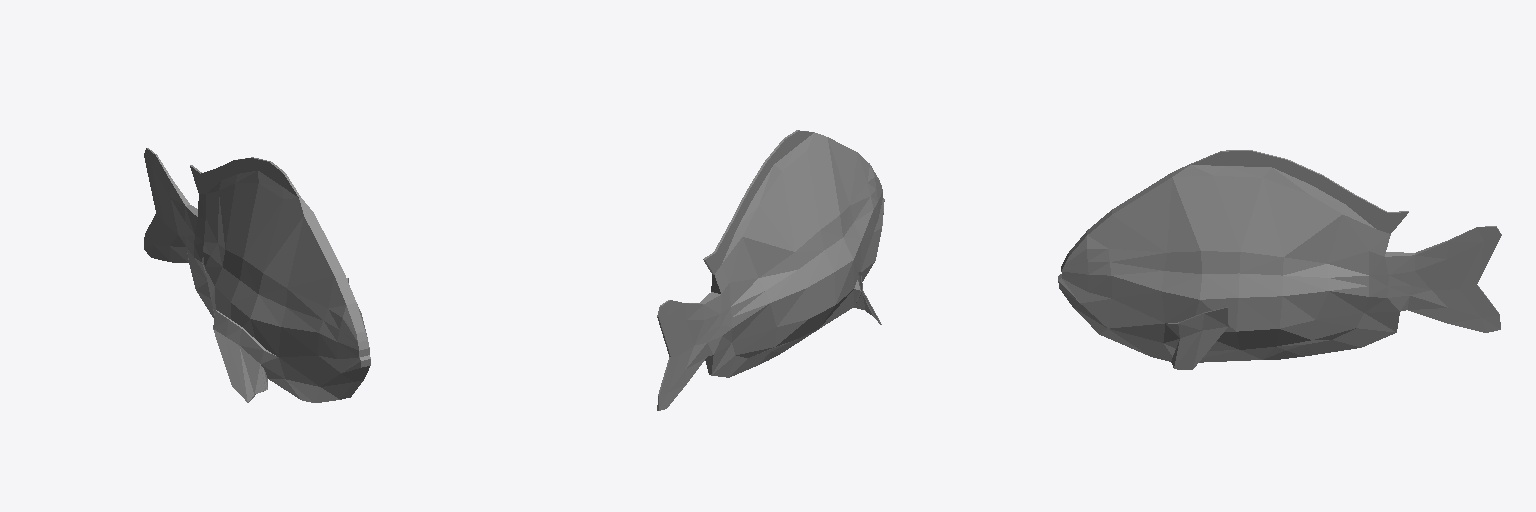
The model's file is TropicalFish13.obj.
The picture shows the model from 3 angles: view 1: azimuth 30°, elevation 25°; view 2: azimuth 150°, elevation 25°; view 3: azimuth 270°, elevation 25°; orthographic projection.
Parts seen in each view (by area): view 1: TropicalFish13; view 2: TropicalFish13; view 3: TropicalFish13.
Boxes of the visible parts, x1=… form: TropicalFish13: x1=144, y1=148, x2=370, y2=402; TropicalFish13: x1=657, y1=130, x2=884, y2=410; TropicalFish13: x1=1058, y1=150, x2=1501, y2=369.
Size of the model in its own units: 2.6 by 3.81 by 7.26.